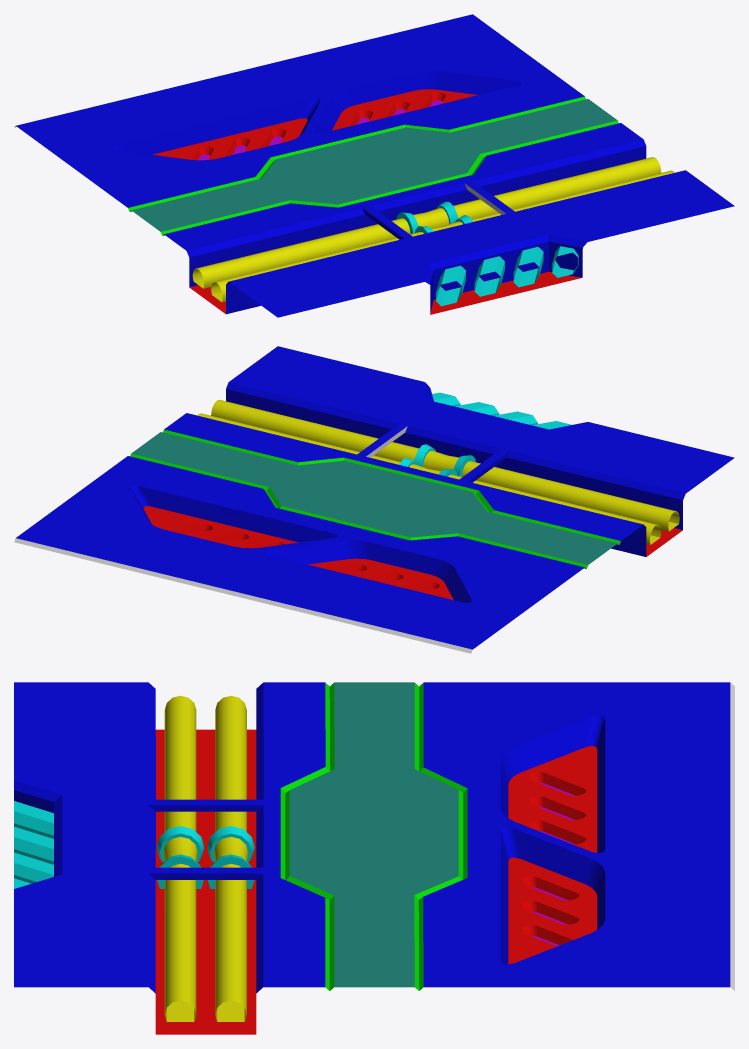
File: DS_SM0009_Scifi_Room_FloorPipeSides_01.fbx
The picture shows the model from 3 angles, top to bottom: view 1: azimuth 30°, elevation 25°; view 2: azimuth 150°, elevation 25°; view 3: azimuth 270°, elevation 25°; orthographic projection. The views are drawn at different scales.
Parts seen in each view (by area): view 1: DS_SM0009_Scifi_Room_FloorPipeSides_01_LP; view 2: DS_SM0009_Scifi_Room_FloorPipeSides_01_LP; view 3: DS_SM0009_Scifi_Room_FloorPipeSides_01_LP.
Part boxes in pixels (<box>): DS_SM0009_Scifi_Room_FloorPipeSides_01_LP: <box>14,14,734,317</box>; DS_SM0009_Scifi_Room_FloorPipeSides_01_LP: <box>14,346,734,653</box>; DS_SM0009_Scifi_Room_FloorPipeSides_01_LP: <box>14,682,734,1034</box>.
Size of the model in its own units: 400 by 28.95 by 400.
